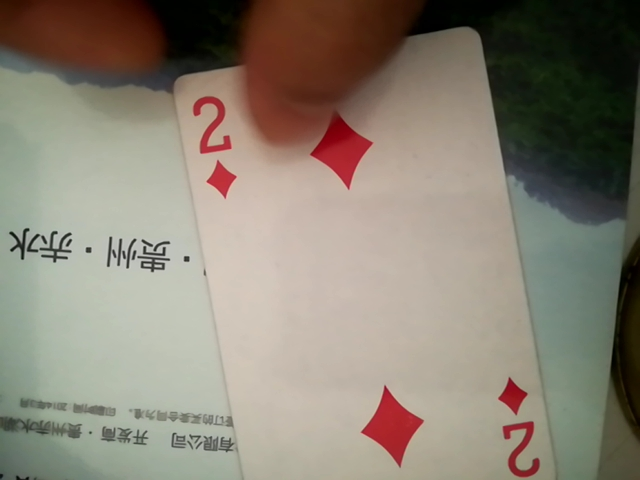fk 2: (154, 33, 570, 480)
